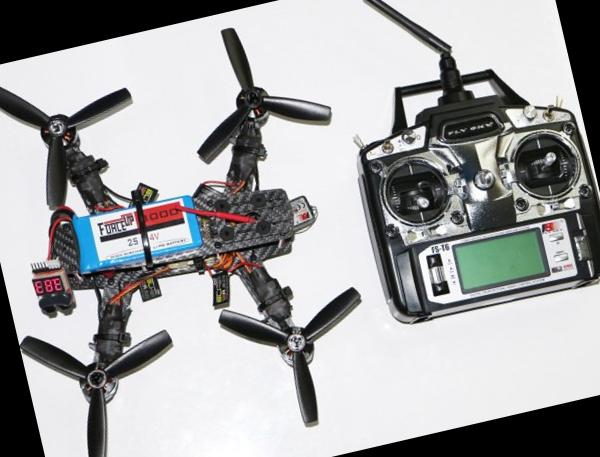drone: (0, 1, 406, 457)
